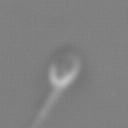abnormal: (24, 86, 66, 128)
